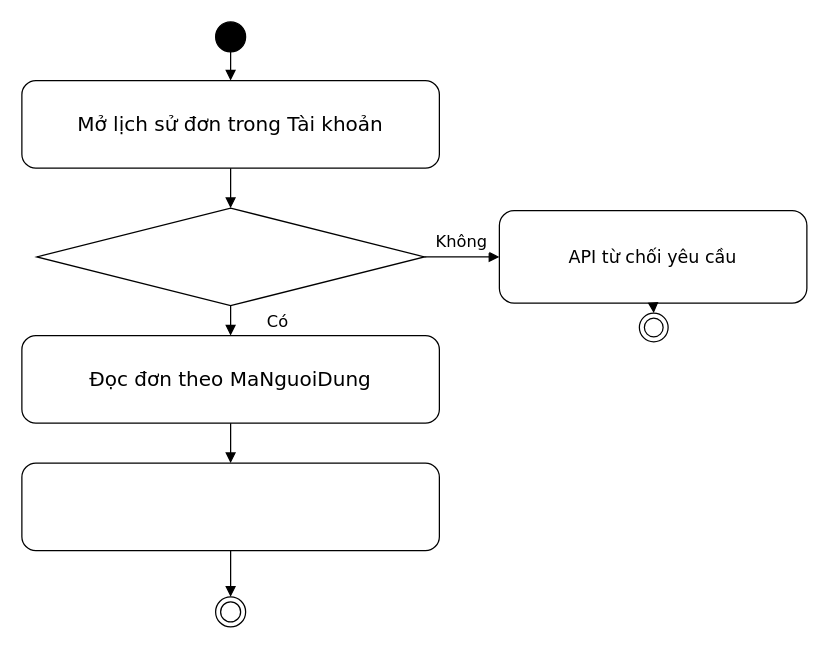
Image size: 829x649. Some labels were removed from this diagram. Each missing label, with the box of its shape:
Hiển thị đơn và trạng thái thanh toán: (21, 462, 439, 551)
Token thành viên hợp lệ?: (36, 207, 424, 306)
